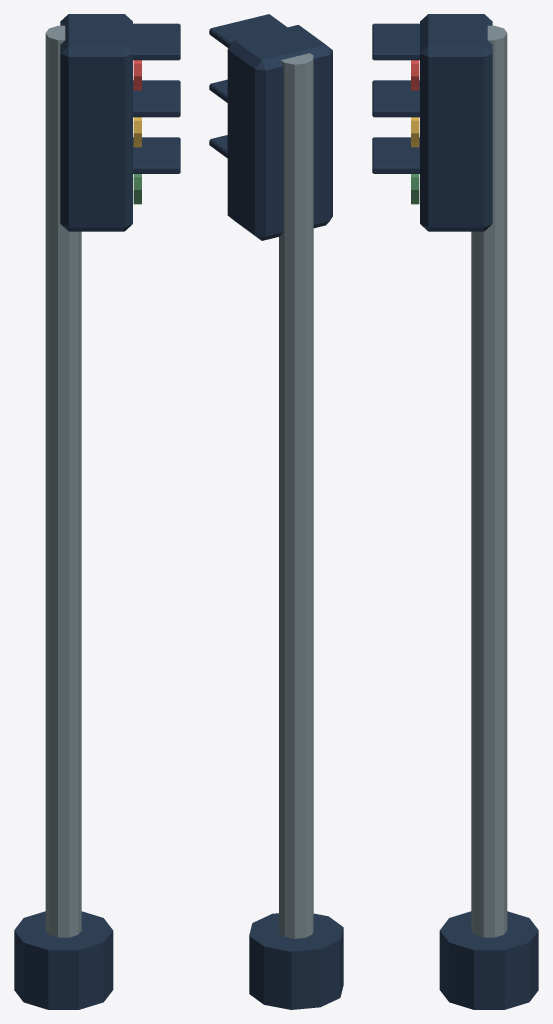
The model's file is TrafficLight_Vehicle.fbx.
3 renders of one model, left to right at view 1: azimuth 90°, elevation 25°; view 2: azimuth 210°, elevation 25°; view 3: azimuth 270°, elevation 25°, orthographic. The views are drawn at different scales.
Parts seen in each view (by area): view 1: Pole, Housing.001, Base.005, SunShield, SunShield.001, SunShield.002; view 2: Pole, Housing.001, Base.005, SunShield; view 3: Pole, Housing.001, Base.005, SunShield, SunShield.001, SunShield.002.
Boxes of the visible parts, x1,y1,x2,y2 form: Pole: (45, 25, 81, 937); Housing.001: (60, 14, 132, 231); Base.005: (14, 911, 113, 1009); SunShield: (133, 23, 180, 60); SunShield.001: (133, 80, 180, 117); SunShield.002: (133, 137, 180, 173); Pole: (279, 53, 313, 938); Housing.001: (227, 25, 332, 240); Base.005: (249, 913, 343, 1009); SunShield: (209, 14, 287, 47); Pole: (471, 25, 507, 937); Housing.001: (420, 14, 492, 231); Base.005: (439, 911, 538, 1009); SunShield: (372, 23, 419, 60); SunShield.001: (372, 80, 419, 117); SunShield.002: (372, 137, 419, 173).
Size of the model in its own units: 0.2853 by 3.21 by 0.505.
